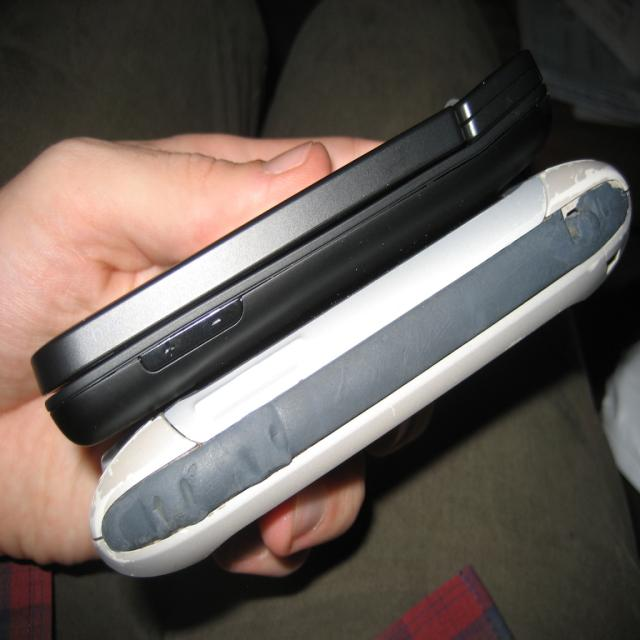Mobile-phone: (53, 0, 607, 599)
